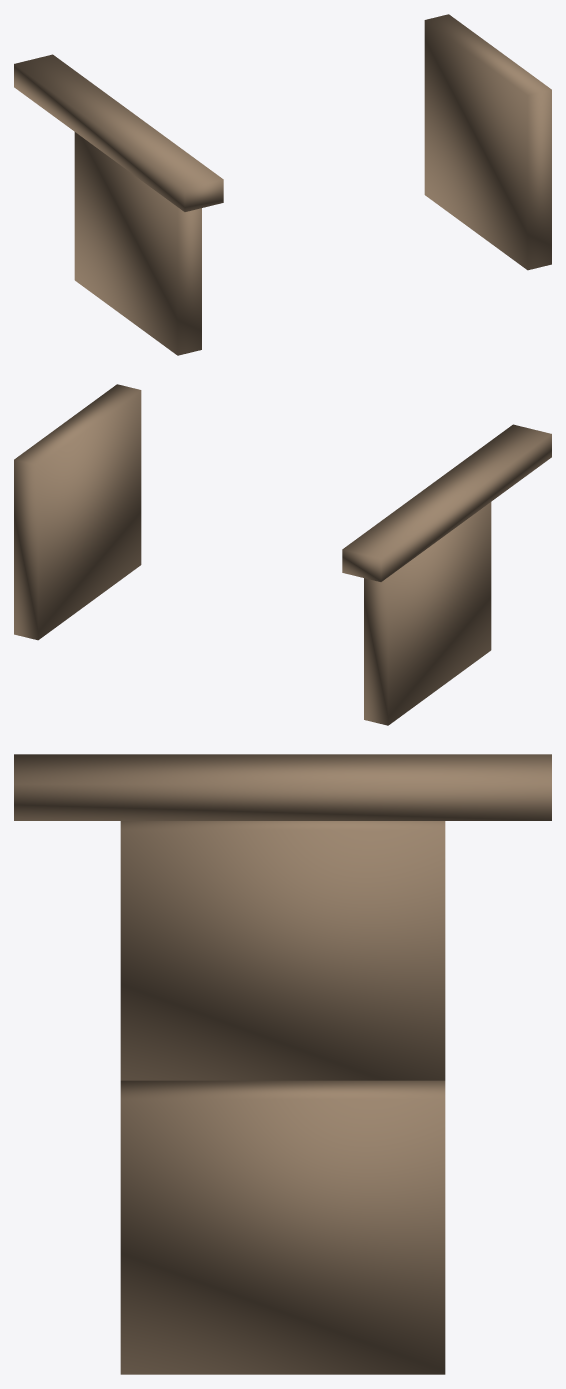
The model's file is luggage_rack__squat.glb.
3 renders of one model, top to bottom at view 1: azimuth 30°, elevation 25°; view 2: azimuth 150°, elevation 25°; view 3: azimuth 270°, elevation 25°, orthographic. The views are drawn at different scales.
Visible parts, largest first — view 1: world; view 2: world; view 3: world.
Part boxes in pixels (bbox=[...]): world: bbox=[14, 14, 551, 355]; world: bbox=[14, 384, 551, 725]; world: bbox=[14, 754, 551, 1374].
Bounding box in the file's own units: 0.9075 × 0.4284 × 0.6696.
